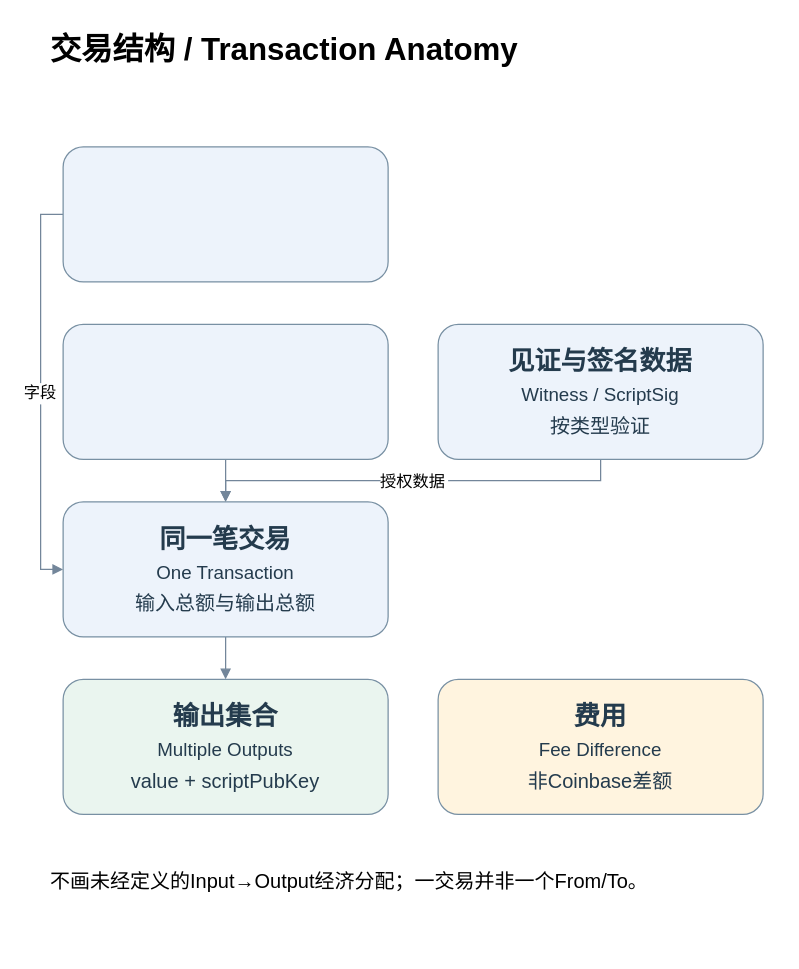
Image size: 799x969. Some labels were removed from this diagram. The box of each missing label's shape, as (x1, y1, x2, y2) in pixels:
交易头尾字段 Version / Locktime 规则与收录条件: (62, 146, 388, 282)
输入集合 Multiple Inputs 引用多个历史Outpoint: (62, 323, 388, 459)
